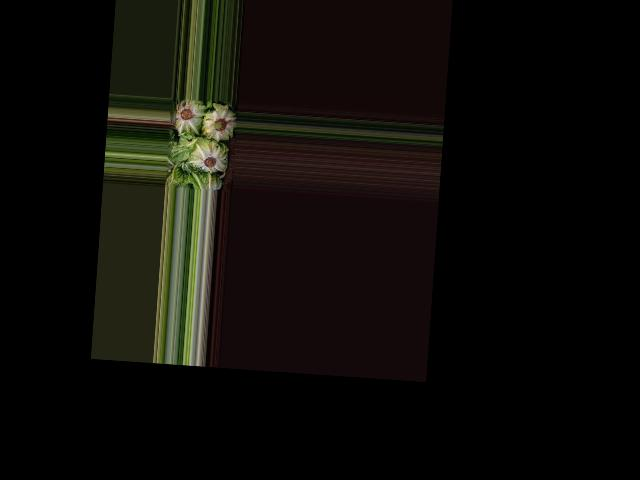lettuce: (173, 98, 206, 135)
